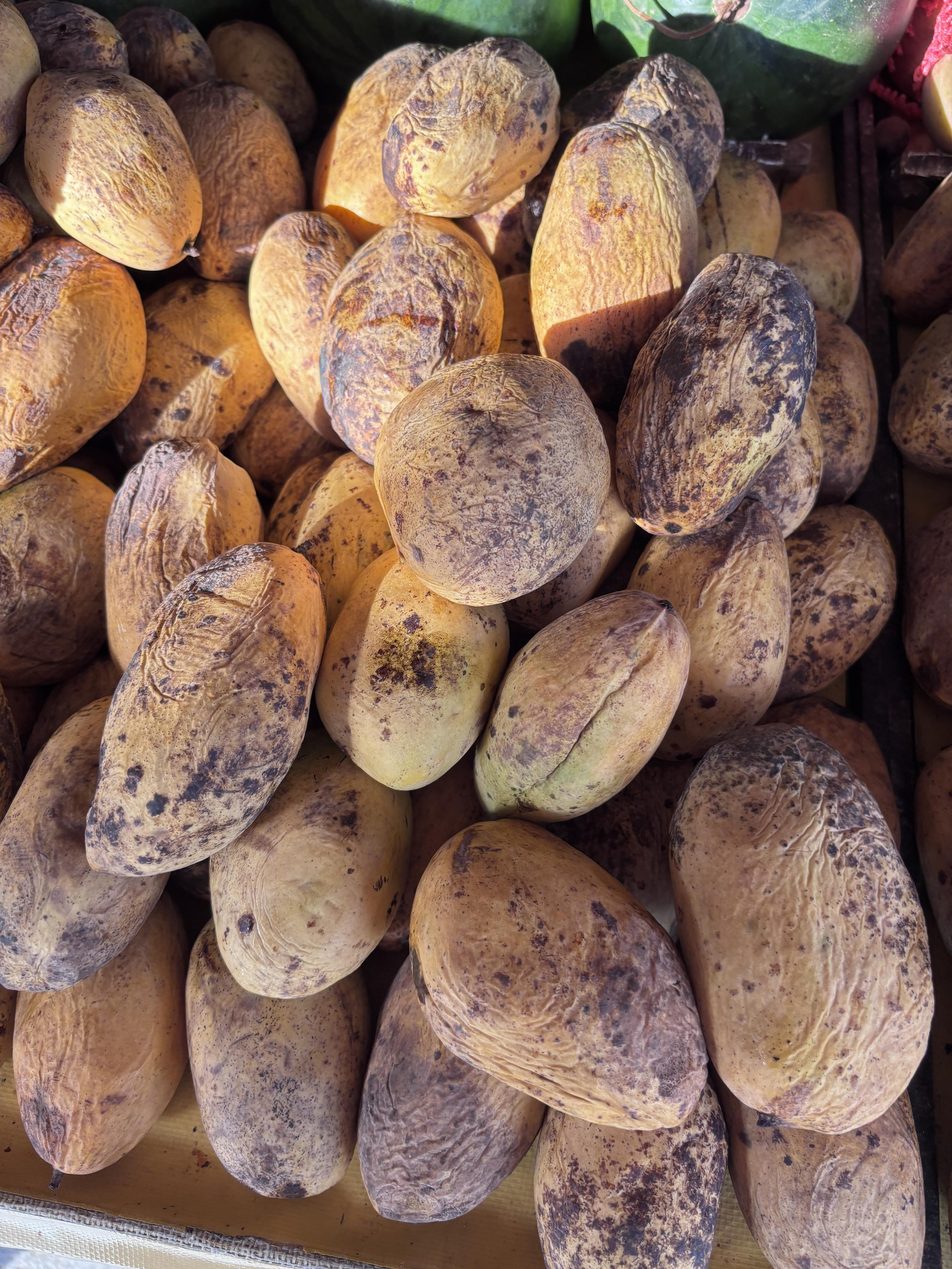mango: (670, 726, 933, 1133), (410, 819, 707, 1129), (86, 543, 325, 875), (375, 355, 610, 606), (617, 254, 816, 536), (475, 590, 690, 821), (25, 69, 202, 269), (382, 38, 559, 218)
occluded: (210, 731, 412, 998), (186, 921, 372, 1198), (358, 959, 545, 1222), (0, 697, 165, 991), (531, 121, 697, 410), (14, 897, 187, 1174), (316, 549, 509, 790), (320, 213, 503, 463), (629, 499, 790, 759), (720, 1087, 924, 1269), (0, 236, 146, 490), (106, 438, 264, 670), (534, 1084, 727, 1269), (113, 278, 274, 463), (171, 79, 305, 281), (313, 43, 446, 243), (562, 53, 724, 207), (248, 211, 356, 441), (0, 467, 112, 687), (775, 505, 896, 703), (296, 454, 393, 635), (810, 311, 878, 505), (697, 153, 781, 271)
